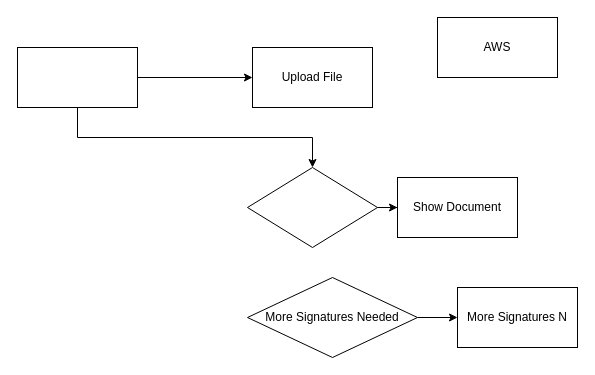
Image size: 595x375. Some labels were removed from this diagram. Here are the shapes that lost their labels. From the top down, the centre of each, then its label:
point 77,77: Load File
point 312,207: isPDF
